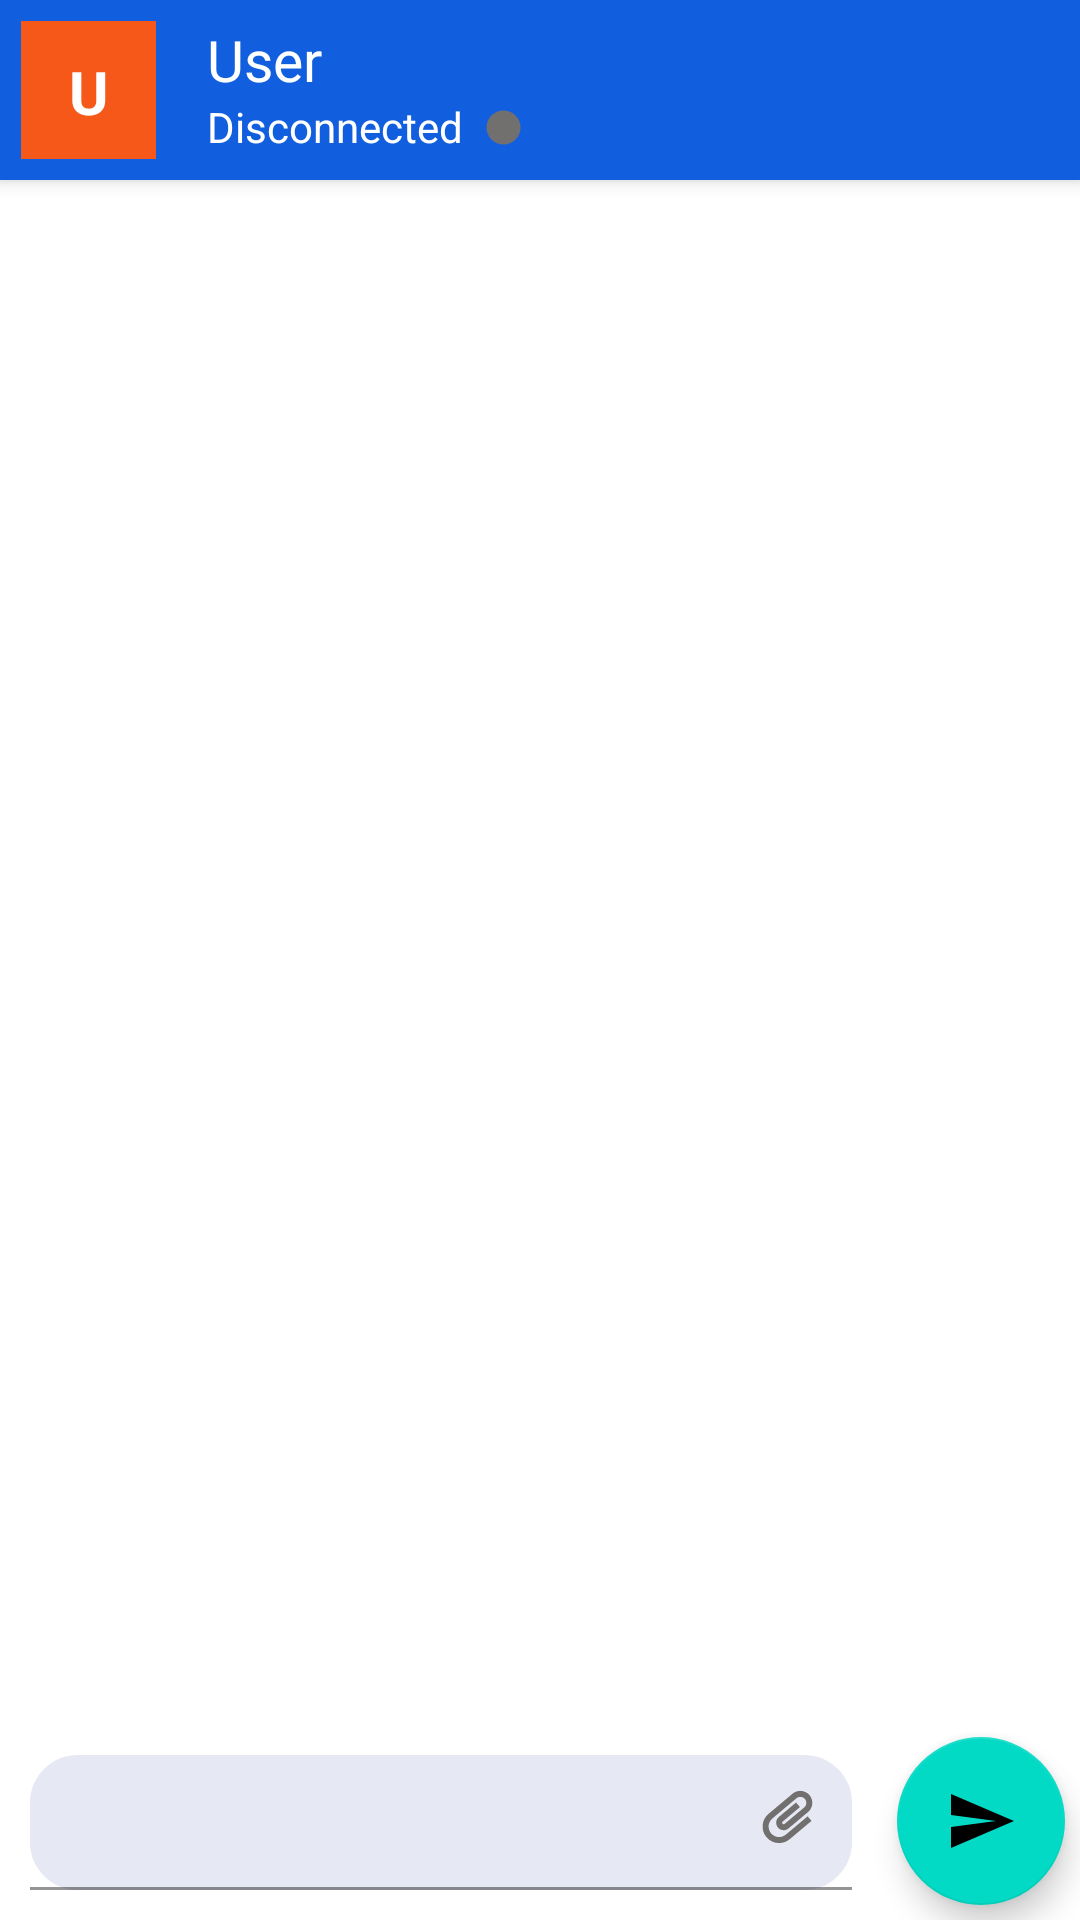

Named icons in this screenshot (1080×1920) and their bounding boxes, (x1, y1, x2, y2):
send: (897, 1737, 1065, 1905)
